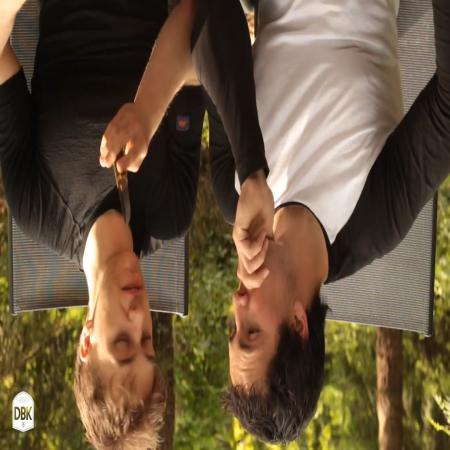long weapon: (94, 128, 144, 234)
